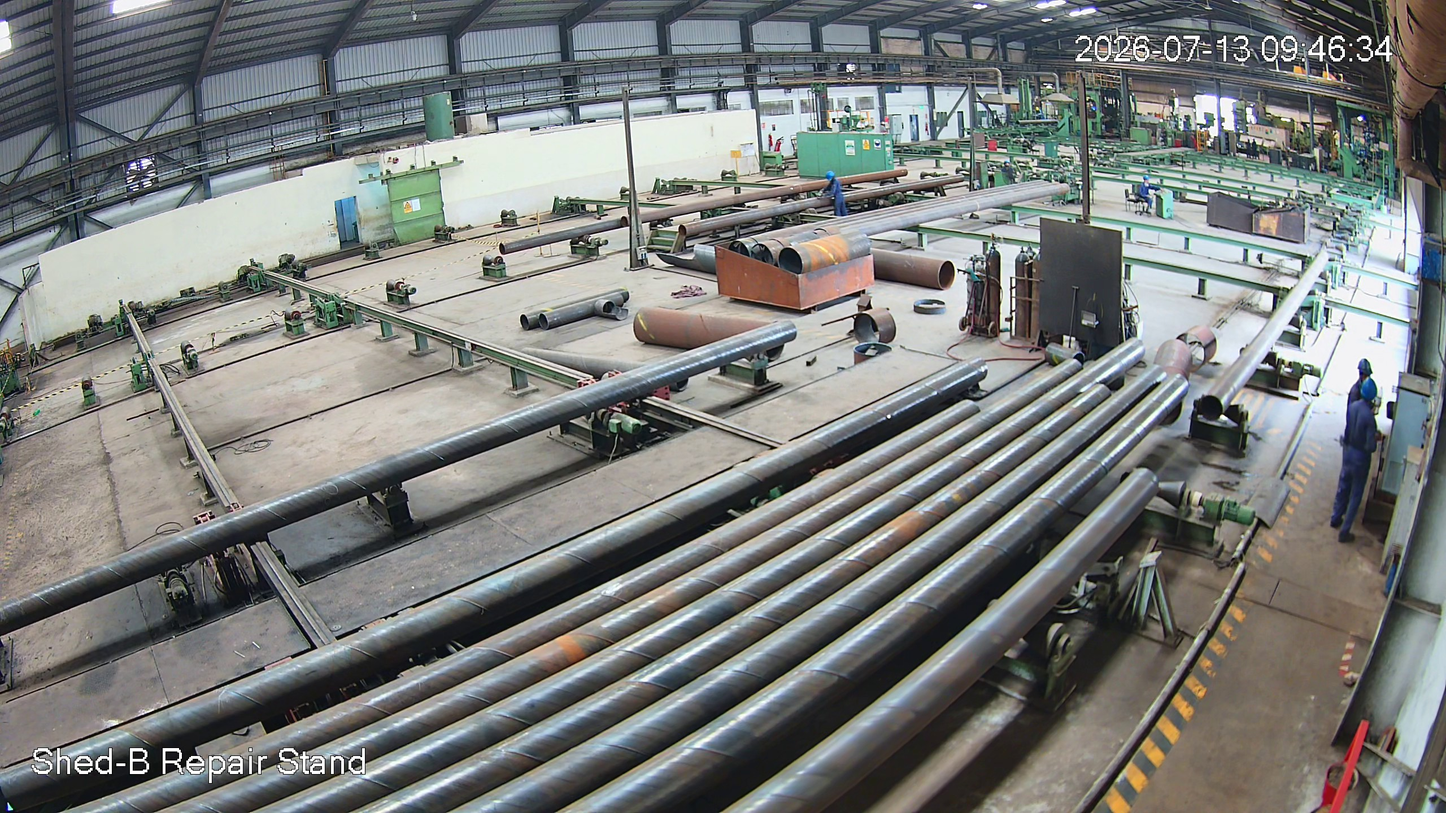Helmet: (1353, 373, 1385, 409), (823, 167, 841, 185)
Person: (1327, 379, 1386, 542), (823, 169, 850, 222)
